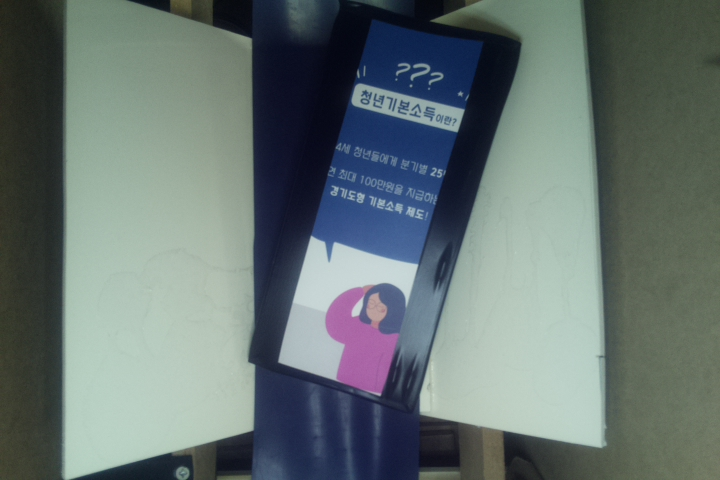book: (249, 1, 522, 414)
